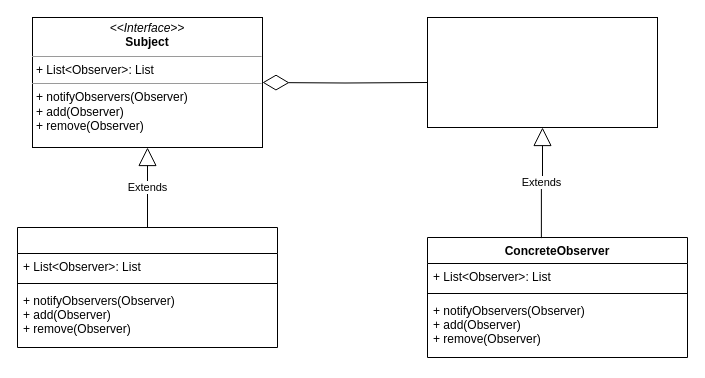
The diagram is 705 pixels wide and 378 high, and some of its shapes have lost their labels. Here are the shapes that lost their labels. From the top down, the box of each, then its label:
(426, 16, 658, 128): <<Interface>> Observer + update(Object)
(16, 226, 278, 348): ConcreteSubject
